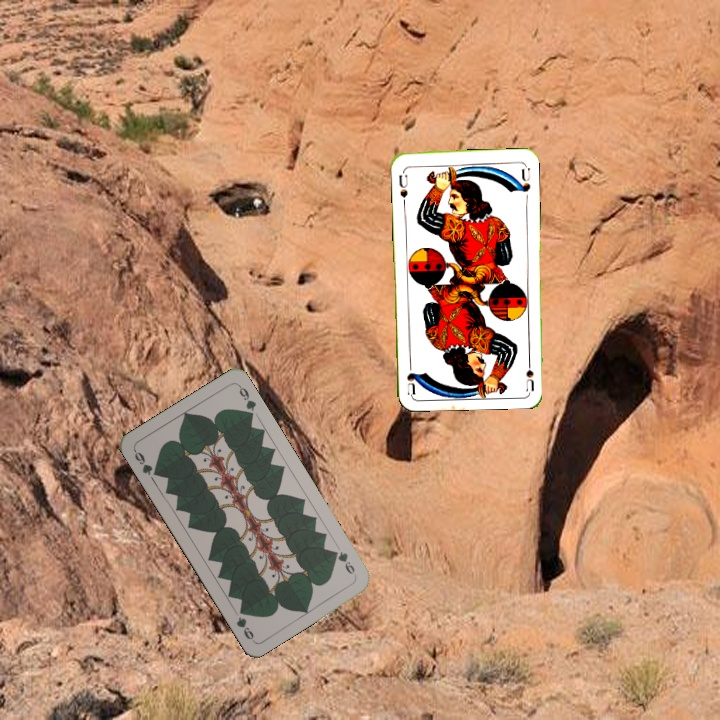G9: (130, 446, 162, 479), (328, 546, 359, 579)
SU: (395, 166, 410, 207), (522, 351, 536, 392)
